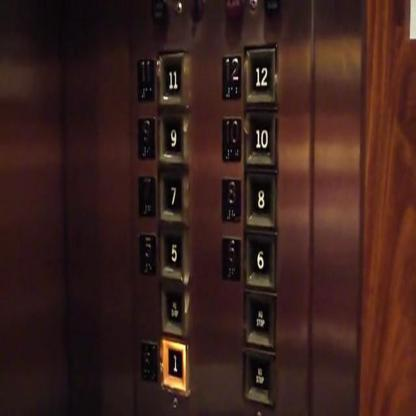1: (157, 330, 192, 399)
10: (240, 108, 279, 174), (218, 112, 242, 166)
11: (155, 48, 192, 114), (136, 54, 155, 105)
12: (242, 41, 282, 112), (218, 51, 242, 105)
5: (158, 223, 192, 285), (137, 230, 159, 277)
6: (242, 227, 277, 292), (219, 234, 244, 283)
7: (156, 165, 191, 228), (136, 173, 157, 220)
8: (242, 170, 280, 231), (219, 174, 243, 226)
9: (155, 105, 190, 170), (133, 114, 157, 163)
text_blur: (241, 346, 279, 409), (242, 288, 276, 350), (159, 278, 192, 340), (138, 335, 159, 386)
